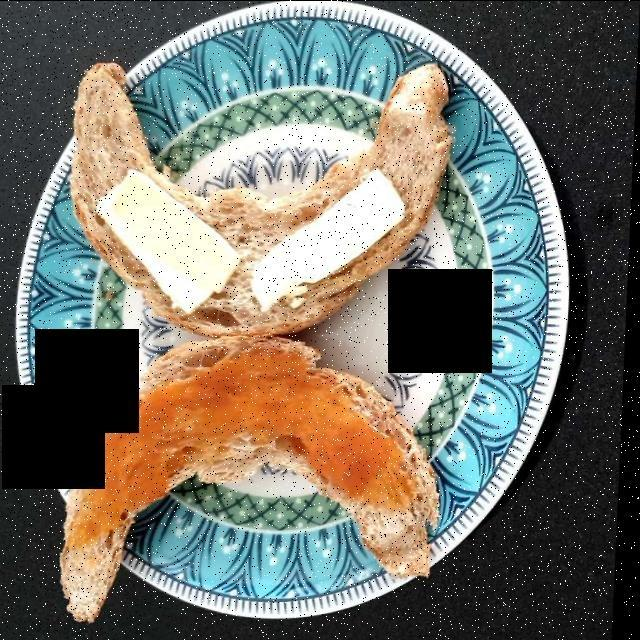butter: (93, 161, 402, 310)
croissant: (71, 115, 443, 616)
jam: (83, 369, 422, 558)
